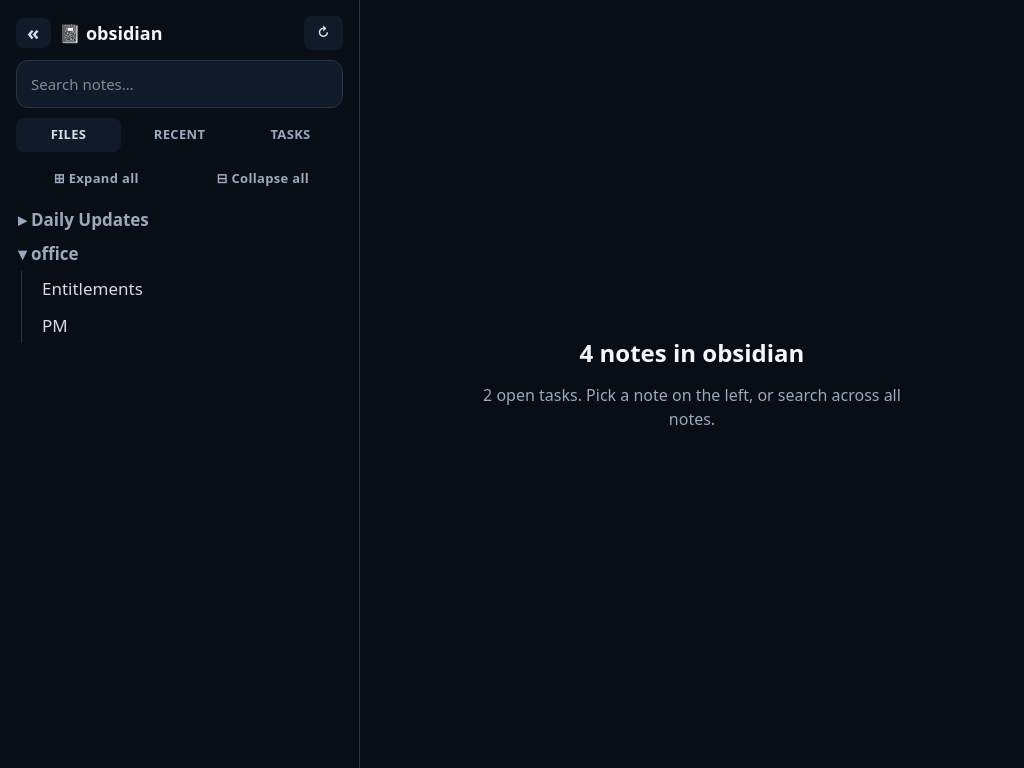
it: Obsidian › opens a note and follows a wikilink
Click the button "PM": (55,325) [34, 308, 343, 343]
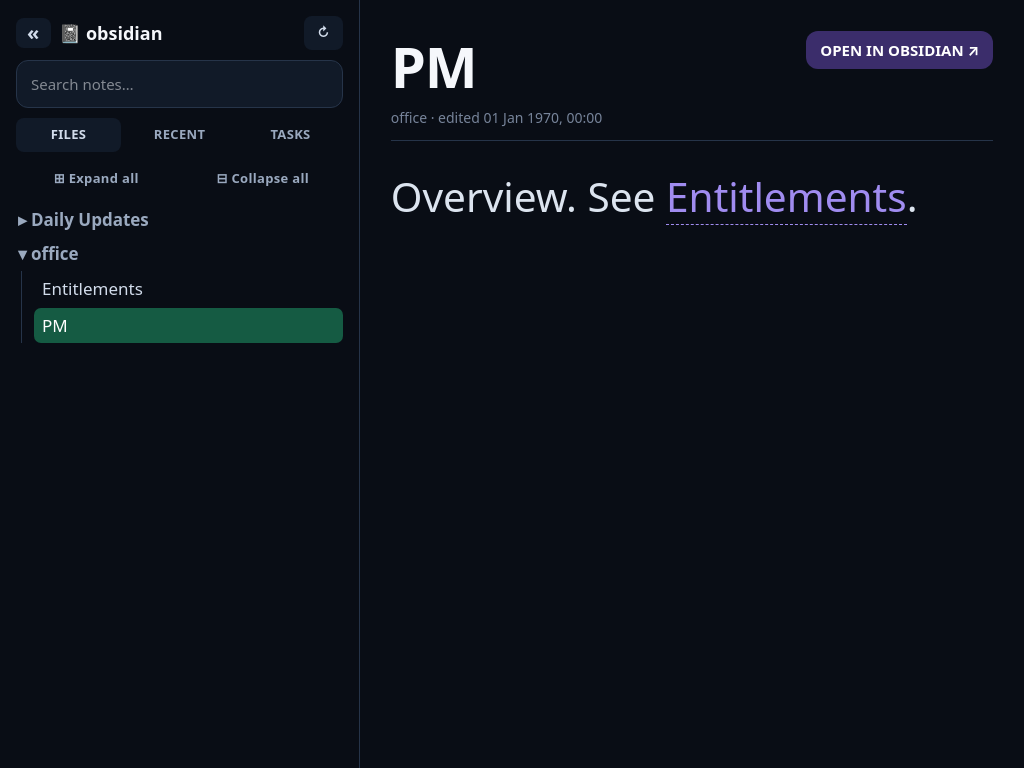
Expected: the heading "PM" is shown, [391, 28, 477, 104]
Click the link "Entitlements": (786,197) [666, 169, 907, 225]
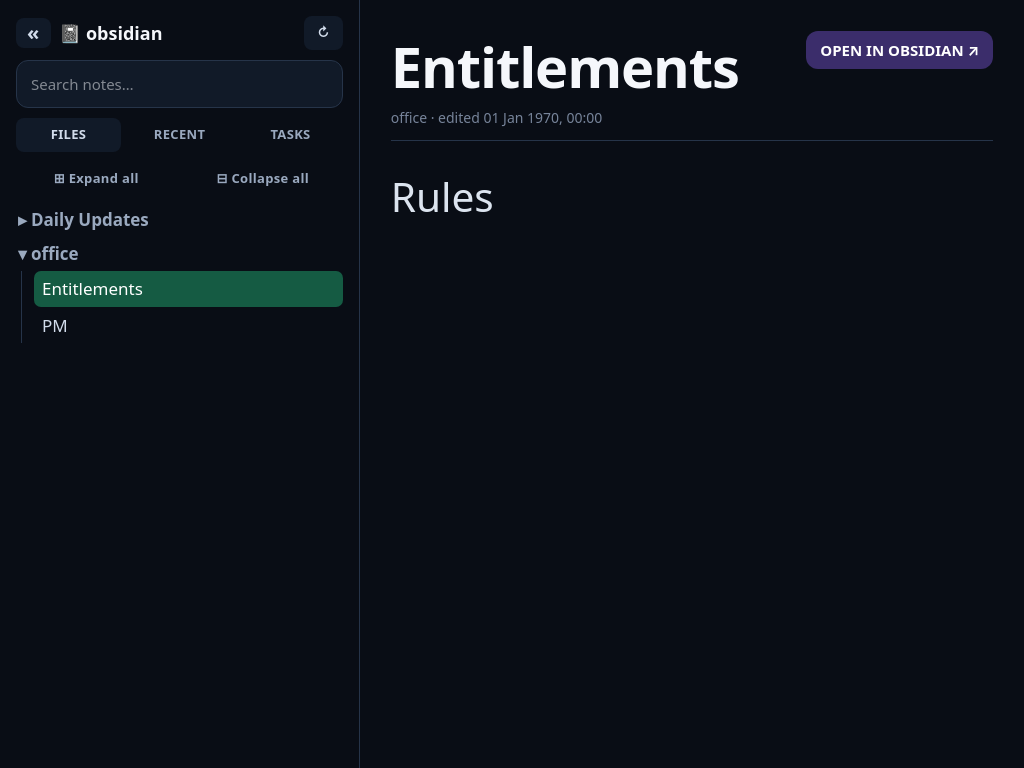
Expected: the heading "Entitlements" is shown, [391, 31, 739, 101]
